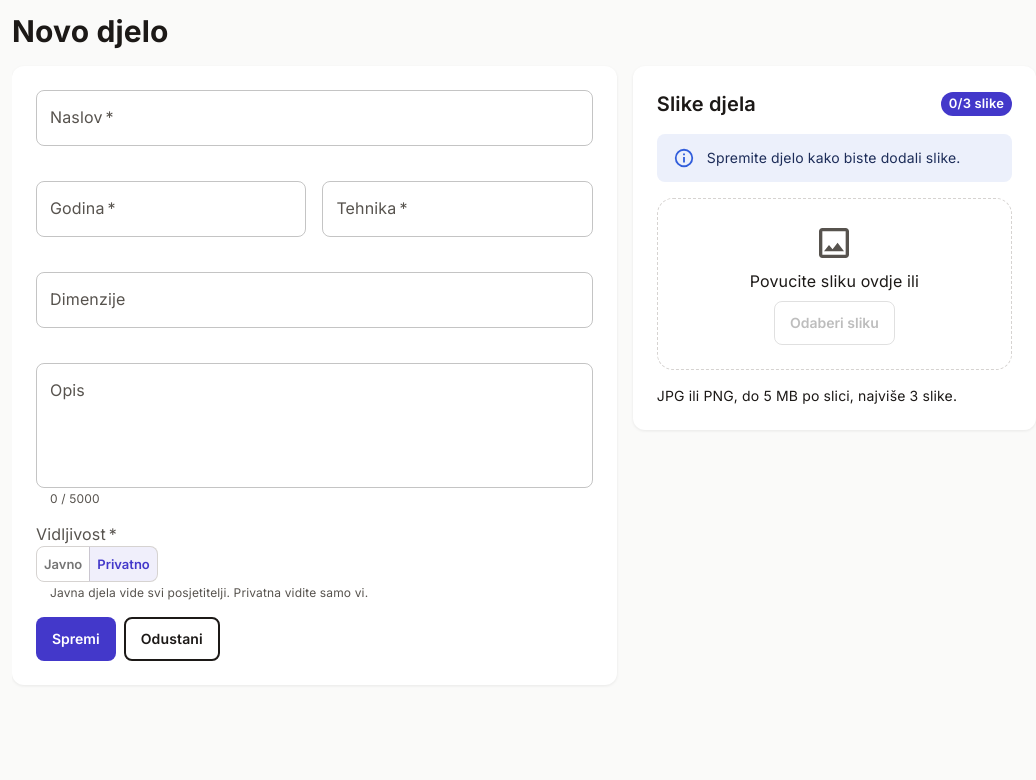
ArtworkFormPage › maps server validation details to the corresponding form field
Type "Plavi horizont" into the field labelled "Naslov" at (314, 118), box [36, 90, 593, 146]
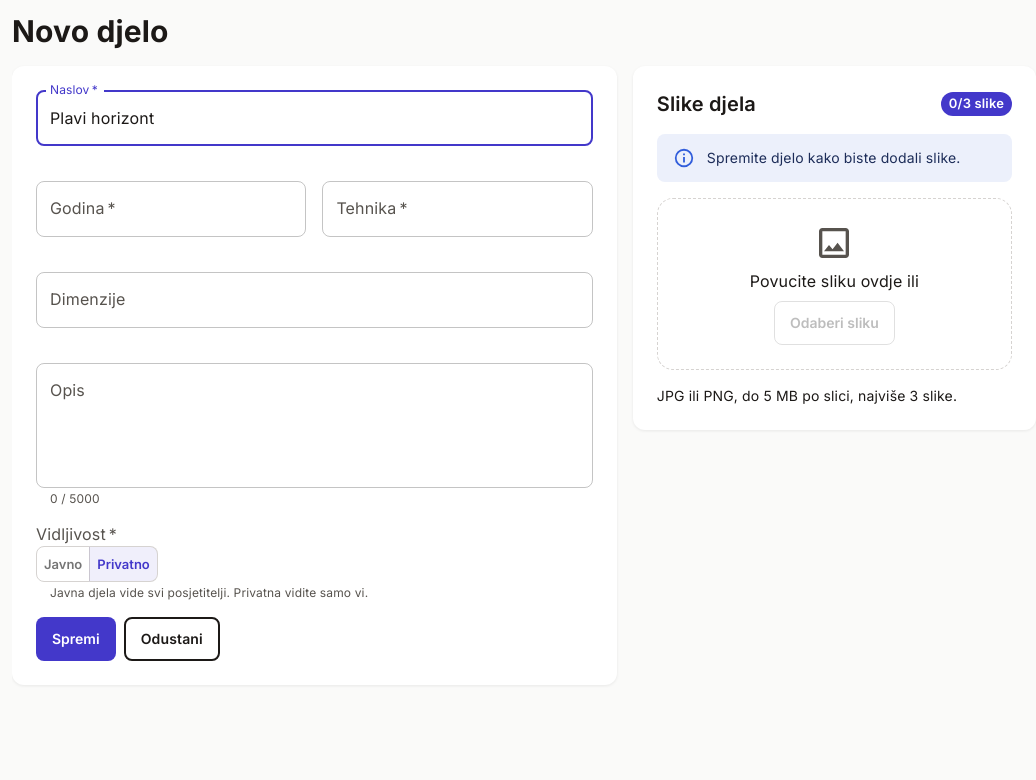
Type "2025" into the number field labelled "Godina" at (171, 209), box [36, 181, 306, 237]
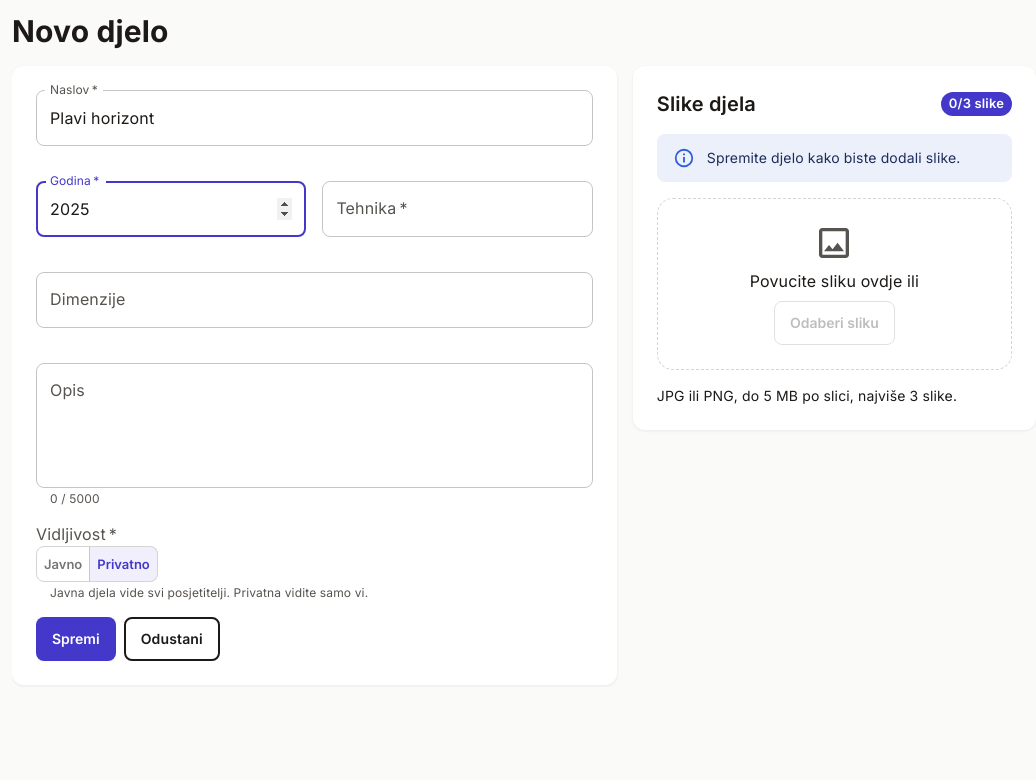
Type "Ulje na platnu" into the field labelled "Tehnika" at (458, 209), box [322, 181, 593, 237]
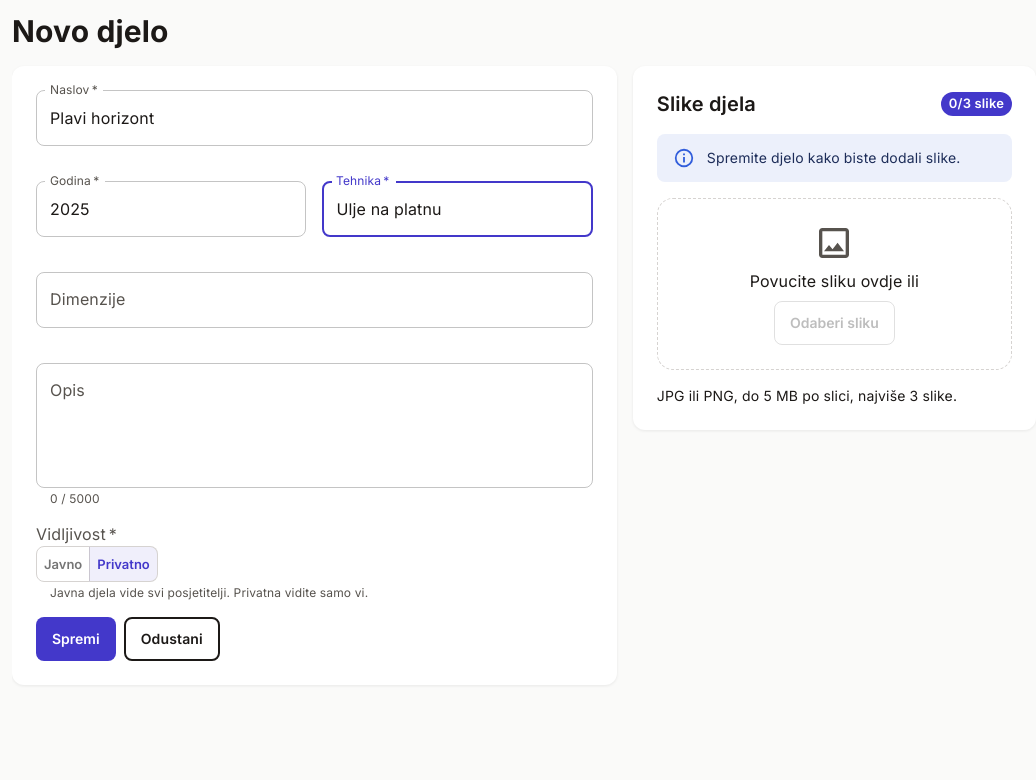
Click the button "Spremi" at (76, 639), box [36, 617, 116, 661]
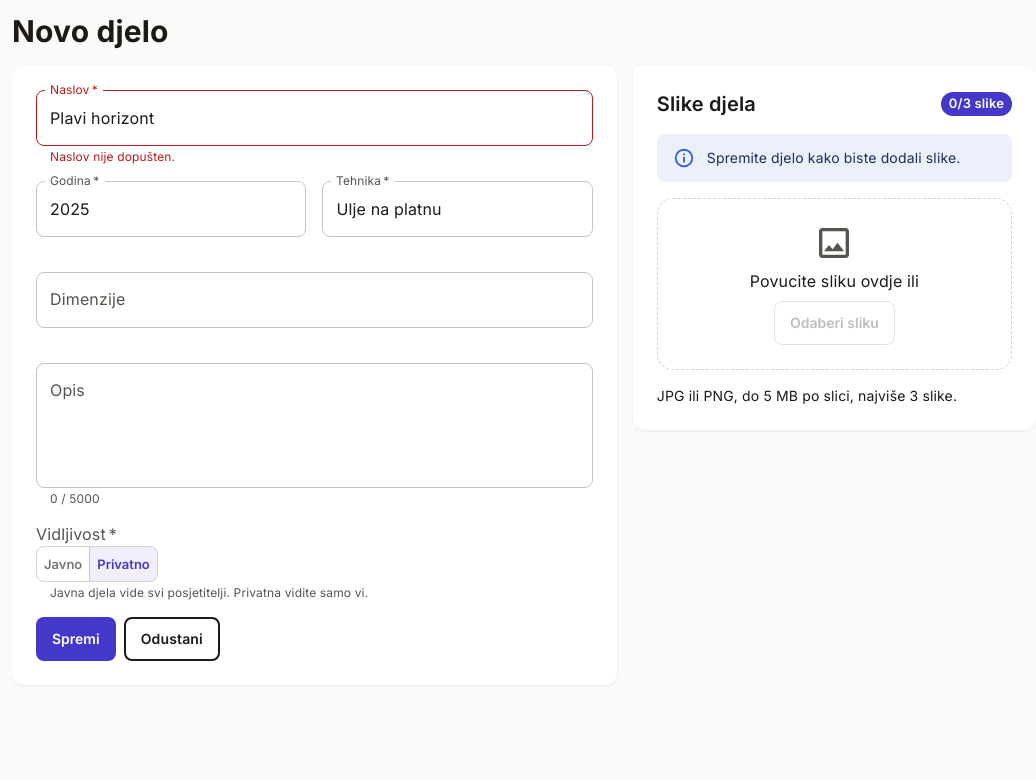
Check: the text "Naslov nije dopušten." is shown, box [50, 149, 175, 164]
